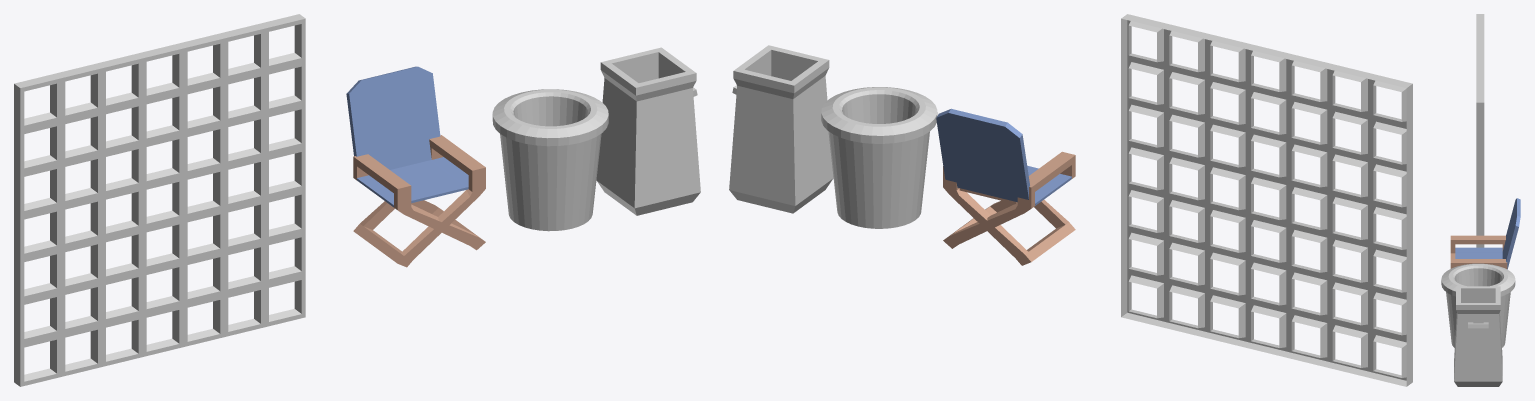
File: Additional assets.fbx
3 renders of one model, left to right at view 1: azimuth 30°, elevation 25°; view 2: azimuth 150°, elevation 25°; view 3: azimuth 270°, elevation 25°, orthographic. The views are drawn at different scales.
Visible parts, largest first — view 1: Thing, Chair, Trash can 1, Trash can 2; view 2: Thing, Trash can 1, Trash can 2, Chair; view 3: Trash can 1, Trash can 2, Chair, Thing.
Part boxes in pixels (x1,y1,x2,y2): Thing: (14, 14, 305, 386); Chair: (346, 66, 485, 267); Trash can 1: (596, 47, 700, 215); Trash can 2: (492, 89, 608, 231); Thing: (1121, 14, 1412, 386); Trash can 1: (729, 45, 833, 213); Trash can 2: (821, 87, 937, 228); Chair: (936, 108, 1075, 265); Trash can 1: (1454, 286, 1502, 386); Trash can 2: (1441, 263, 1515, 347); Chair: (1450, 198, 1520, 269); Thing: (1476, 14, 1484, 247).
Size of the model in its own units: 1485 by 632 by 238.
